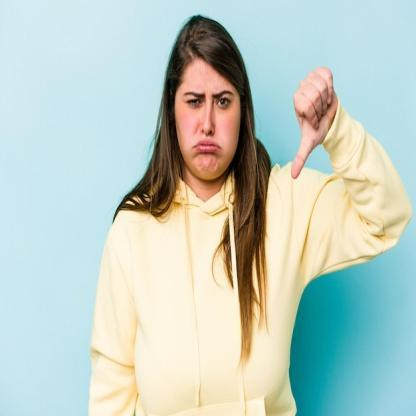thumb_down: (287, 60, 338, 179)
